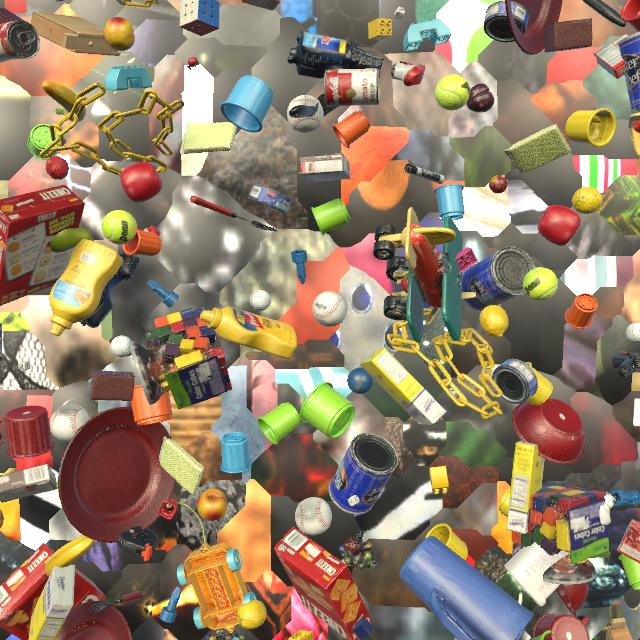ycb_002_master_chef_can: (329, 433, 398, 515), (462, 246, 535, 311), (618, 31, 640, 113)
ycb_003_cracker_box: (274, 527, 372, 640), (0, 184, 85, 306), (0, 543, 106, 640)
ycb_004_sugar_box: (359, 347, 447, 425), (506, 440, 545, 534), (29, 565, 75, 640)
ycb_005_tomato_soup_can: (324, 69, 380, 107), (0, 20, 40, 62)
ycb_006_mustard_bottle: (49, 239, 123, 336), (200, 306, 297, 359)
ycb_007_tuna_fish_can: (492, 359, 538, 404), (483, 1, 529, 42), (248, 183, 292, 214)
ycb_008_pudding_box: (0, 464, 57, 503), (299, 153, 351, 182)
ycb_009_gelatin_box: (594, 33, 630, 79), (617, 519, 640, 563), (242, 0, 281, 11)
ycb_010_potted_meat_can: (0, 323, 4, 364)
ycb_011_banana: (45, 536, 95, 576), (41, 80, 86, 122)
ycb_012_strawberry: (45, 156, 69, 180), (400, 273, 408, 293)
ycb_013_apple: (537, 205, 581, 246), (120, 162, 163, 203)
ycb_014_lemon: (479, 305, 509, 337), (237, 600, 267, 629), (572, 186, 603, 214)
ycb_015_peach: (104, 17, 135, 51), (197, 488, 227, 521), (0, 509, 4, 529)
ycb_016_pear: (51, 227, 92, 253)
ycb_018_plum: (466, 83, 494, 113)
